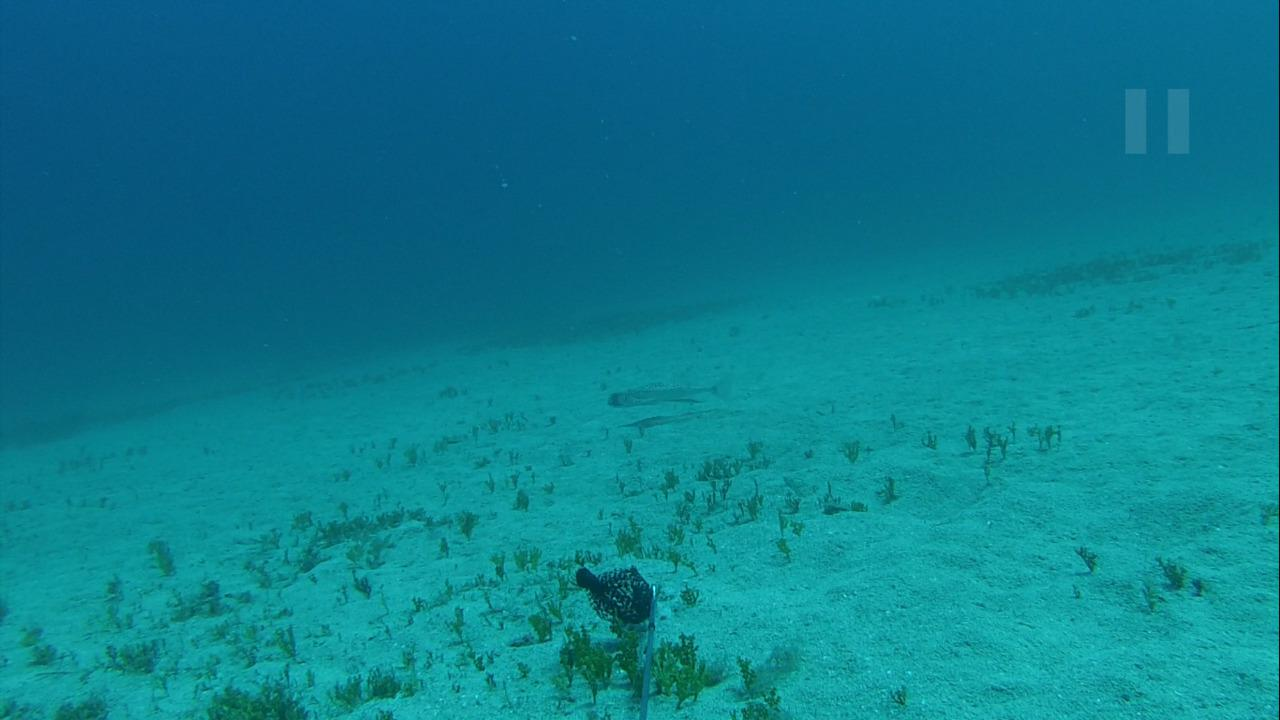dactylopterus: (594, 375, 728, 417)
